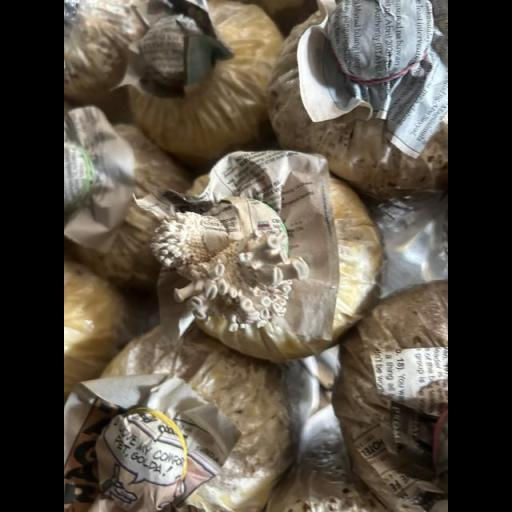White Oyster Mushroom: (128, 191, 324, 340)
